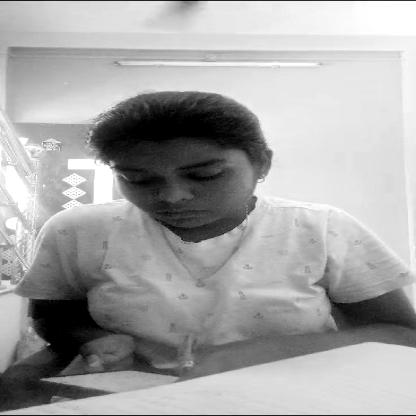Normal: (109, 143, 267, 231)
